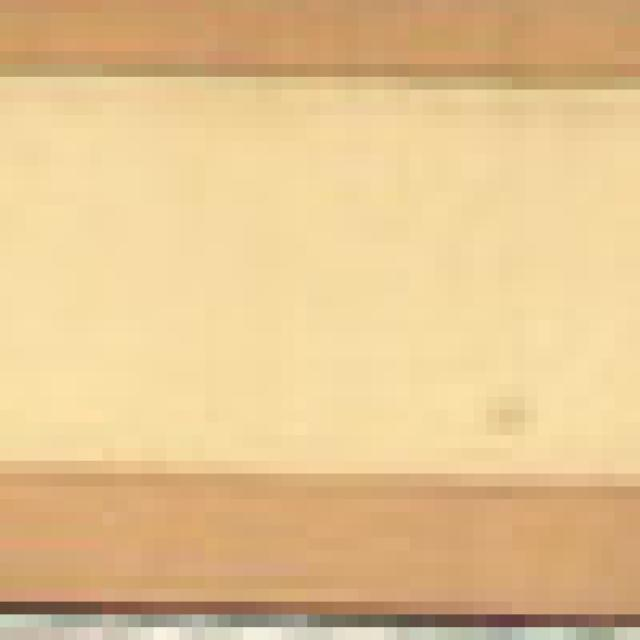no_fire: (23, 38, 640, 499)
